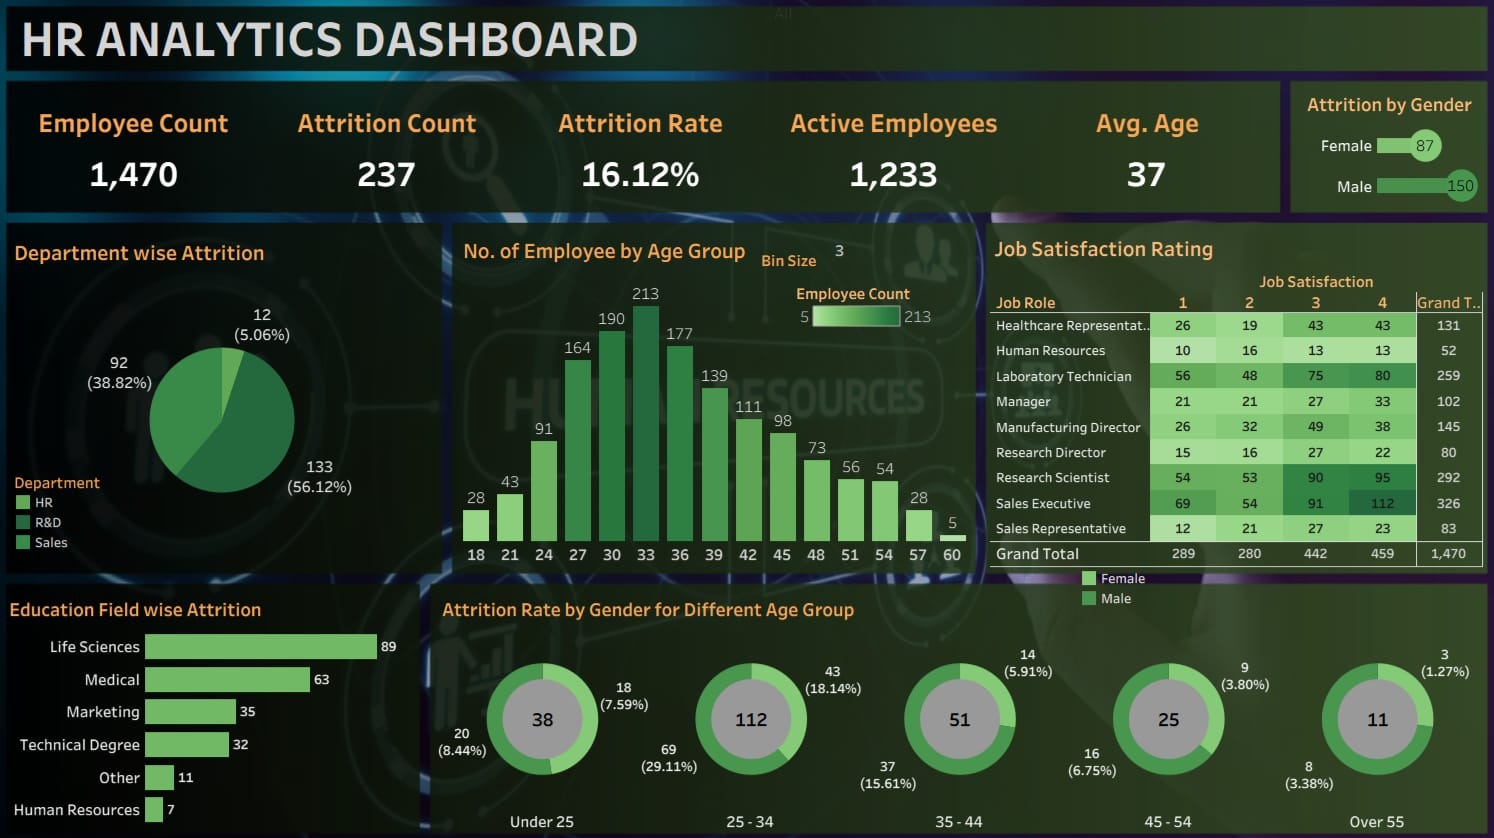

What the dashboard file says about the page in this screenshot:
{"tool":"powerbi","page":{"name":"Page 1","canvas":[1280,720],"ordinal":0},"visuals":[{"type":"card","title":"Overall Employees","fields":{"Values":["Sum(HR data.Employee Count)"]},"box":[31.4,72.4,218.4,100.1],"z":0},{"type":"card","title":"Attrition","fields":{"Values":["Sum(HR data.Attrition Count)"]},"box":[298,73.6,218.4,100.1],"z":1},{"type":"card","title":"Attrition Rate","fields":{"Values":["HR data.Attrition Rate"]},"box":[579.1,72.4,218.4,100.1],"z":2},{"type":"card","title":"Active Employees","fields":{"Values":["HR data.Active Employees"]},"box":[845.7,72.4,218.4,100.1],"z":3},{"type":"card","title":"Average Age","fields":{"Values":["Avg(HR data.Age)"]},"box":[1107.5,66.4,164.1,113.4],"z":4},{"type":"pieChart","title":" Department wise Attrition","fields":{"Category":["HR data.Department"],"Y":["Sum(HR data.Attrition Count)"]},"box":[18.1,191.8,352.3,282.3],"z":5},{"type":"clusteredColumnChart","title":"No. of Employee by Age Group","fields":{"Category":["HR data.CF_age band"],"Y":["Sum(HR data.Employee Count)"],"Series":["HR data.Gender"]},"box":[396.9,196.6,424.7,277.5],"z":6},{"type":"ribbonChart","title":"Attrition Labels","fields":{"Category":["HR data.Daily Rate"],"Y":["Sum(HR data.Hourly Rate)"],"Rows":["HR data.CF_age band"],"Series":["HR data.CF_attrition label"]},"box":[755.2,509.1,507.9,184.6],"z":7},{"type":"funnel","title":"Job Satisfaction","fields":{"Y":["Sum(HR data.Job Satisfaction)"],"Category":["HR data.Job Role"]},"box":[387.3,507.9,333,196.6],"z":11},{"type":"lineStackedColumnComboChart","title":"Education Vs Job Role","fields":{"Y":["CountNonNull(HR data.Education)"],"Category":["HR data.Gender"],"Series":["HR data.Department"],"Y2":["Sum(HR data.Hourly Rate)"]},"box":[9.7,509.1,342.6,196.6],"z":12},{"type":"clusteredBarChart","title":"Education Field wise Attrition","fields":{"Category":["HR data.Education Field"],"Y":["CountNonNull(HR data.Education Field)"],"Series":["HR data.Attrition Count"]},"box":[848.1,191.8,423.5,290.8],"z":13},{"type":"card","title":"HR ATTRITION DASHBOARD","fields":{"Values":["Sum(HR data.Employee Count)"]},"box":[31.4,0,594.8,55.5],"z":14},{"type":"card","title":"Power Bi","fields":{"Values":["Sum(HR data.Employee Count)"]},"box":[1190.8,27.7,80.8,27.7],"z":15},{"type":"card","title":"Human Resources | Research & Development | Sales","fields":{"Values":["Sum(HR data.Employee Count)"]},"box":[635.8,9.7,553.8,32.6],"z":16}]}

Visuals, with their boxes in screenshot pixels (x1, y1, x2, y2), scaled from the page's 1280x720 canvas onto the 1494x838 screenshot:
"Overall Employees" card: [left=37, top=84, right=292, bottom=201]
"Attrition" card: [left=348, top=86, right=603, bottom=202]
"Attrition Rate" card: [left=676, top=84, right=931, bottom=201]
"Active Employees" card: [left=987, top=84, right=1242, bottom=201]
"Average Age" card: [left=1293, top=77, right=1484, bottom=209]
" Department wise Attrition" pieChart: [left=21, top=223, right=432, bottom=552]
"No. of Employee by Age Group" clusteredColumnChart: [left=463, top=229, right=959, bottom=552]
"Attrition Labels" ribbonChart: [left=881, top=593, right=1474, bottom=807]
"Job Satisfaction" funnel: [left=452, top=591, right=841, bottom=820]
"Education Vs Job Role" lineStackedColumnComboChart: [left=11, top=593, right=411, bottom=821]
"Education Field wise Attrition" clusteredBarChart: [left=990, top=223, right=1484, bottom=562]
"HR ATTRITION DASHBOARD" card: [left=37, top=0, right=731, bottom=65]
"Power Bi" card: [left=1390, top=32, right=1484, bottom=64]
"Human Resources | Research & Development | Sales" card: [left=742, top=11, right=1388, bottom=49]
